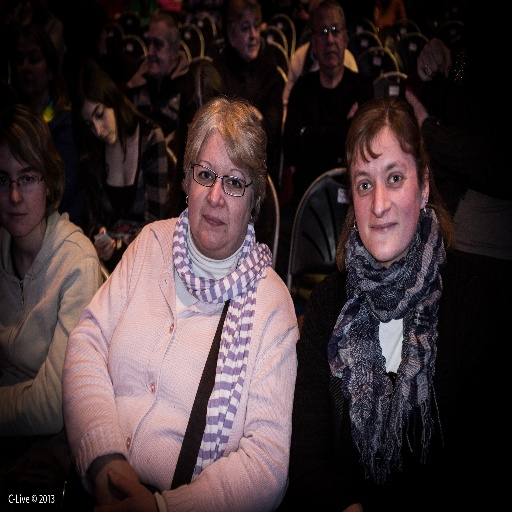hand: (88, 459, 140, 511), (414, 36, 452, 84), (92, 224, 118, 263), (404, 88, 420, 115), (346, 101, 357, 119)
